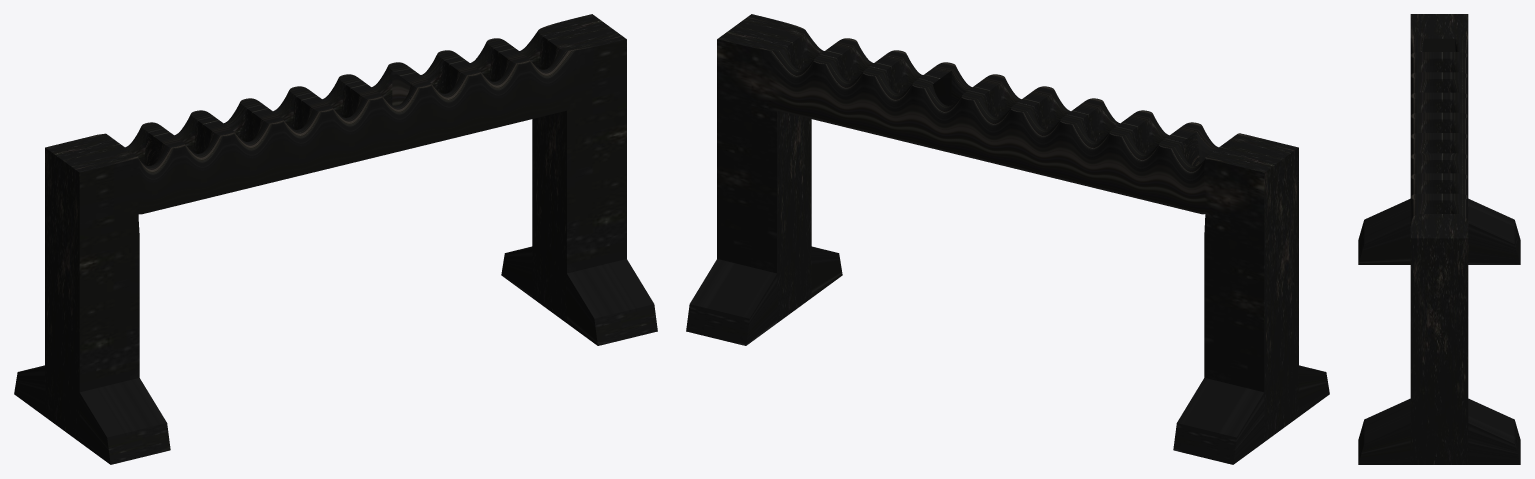
File: racktest.fbx
3 renders of one model, left to right at view 1: azimuth 30°, elevation 25°; view 2: azimuth 150°, elevation 25°; view 3: azimuth 270°, elevation 25°, orthographic. The views are drawn at different scales.
Visible parts, largest first — view 1: Cube; view 2: Cube; view 3: Cube.
Part boxes in pixels (x1,y1,x2,y2): Cube: (14,14,657,464); Cube: (686,14,1329,464); Cube: (1358,14,1520,464).
Bounding box in the file's own units: 340 × 160 × 104.
Materials: 1 (1 with a texture image).
